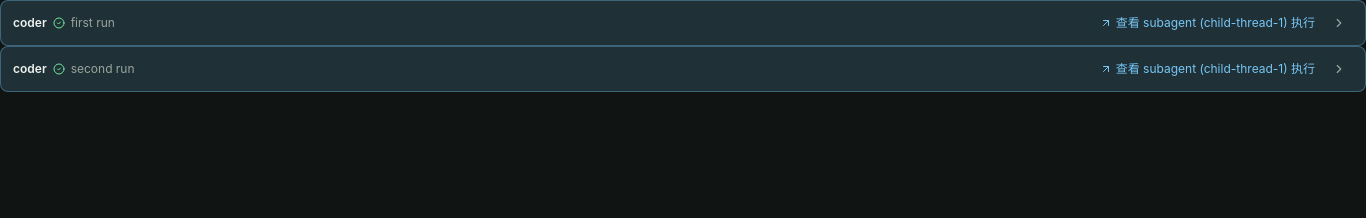
Scenario: SubagentReceipt identity and safety › keeps every receipt of the same source thread as its own entry
Expected: the number of elements with class "thread-subagent-receipt" is 2, left=0, top=0, right=1365, bottom=46; left=0, top=46, right=1365, bottom=92
# 展开只作用于被点击的那条回执。
Click the 1st button with class "thread-subagent-receipt-toggle".
click(1339, 23)  # box left=1325, top=9, right=1353, bottom=37
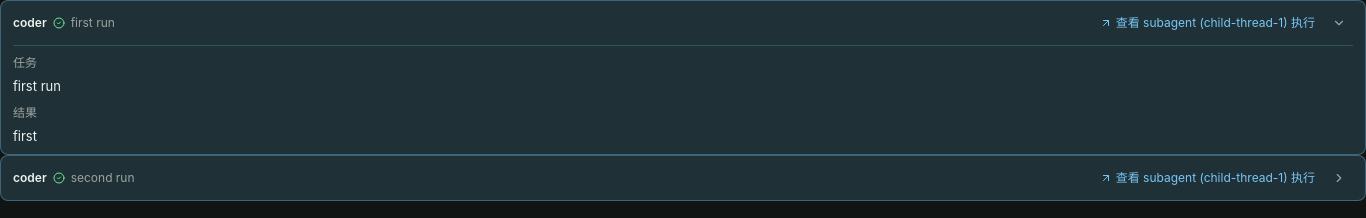
Now the element with class "thread-subagent-receipt-detail" is shown, box left=13, top=45, right=1353, bottom=146
